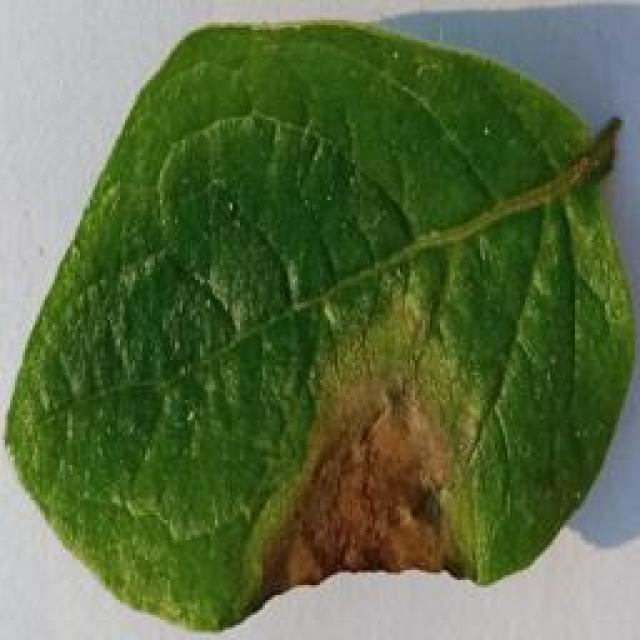Potato_Late_Blight: (5, 22, 625, 632)
